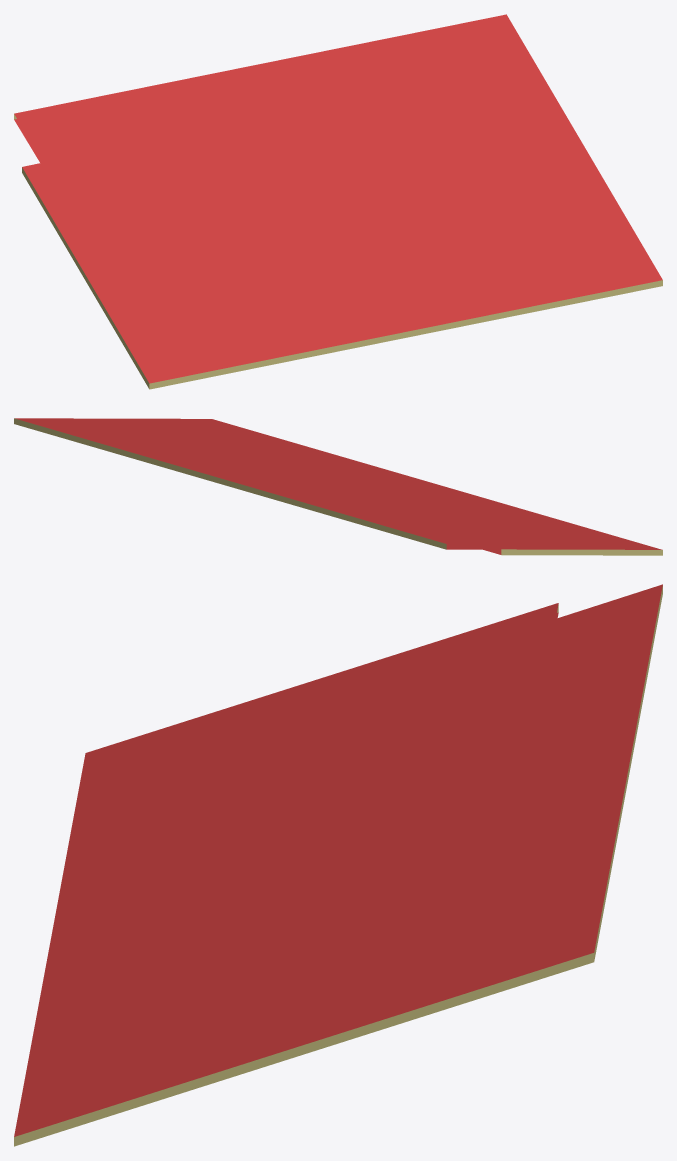
The picture shows the model from 3 angles, top to bottom: view 1: azimuth 30°, elevation 25°; view 2: azimuth 150°, elevation 25°; view 3: azimuth 270°, elevation 25°; orthographic projection. The views are drawn at different scales.
Size of the model in its own units: 9.06 by 6.16 by 2.23.
